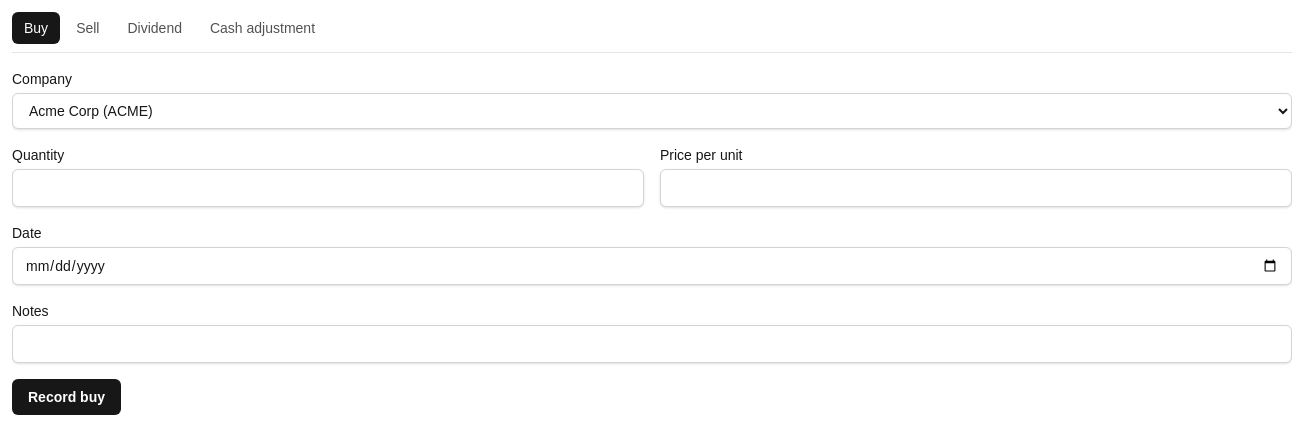
TransactionForms › switches to the sell form when the Sell tab is clicked
Click the button "Sell".
click(88, 28)  # box [64,12,112,44]
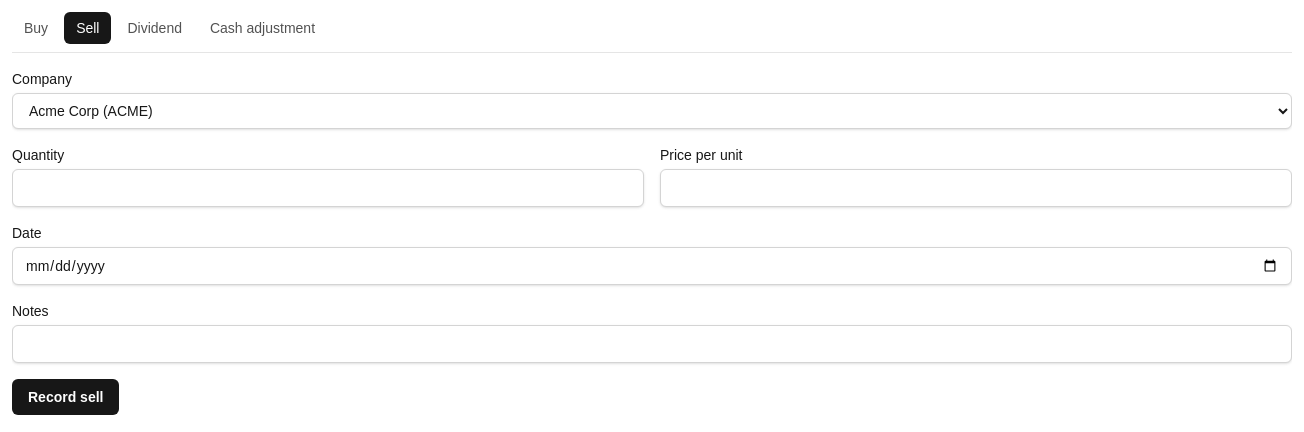
Now the button "Record sell" is shown, box [12,379,120,415]
Now the button "Record buy" is gone
